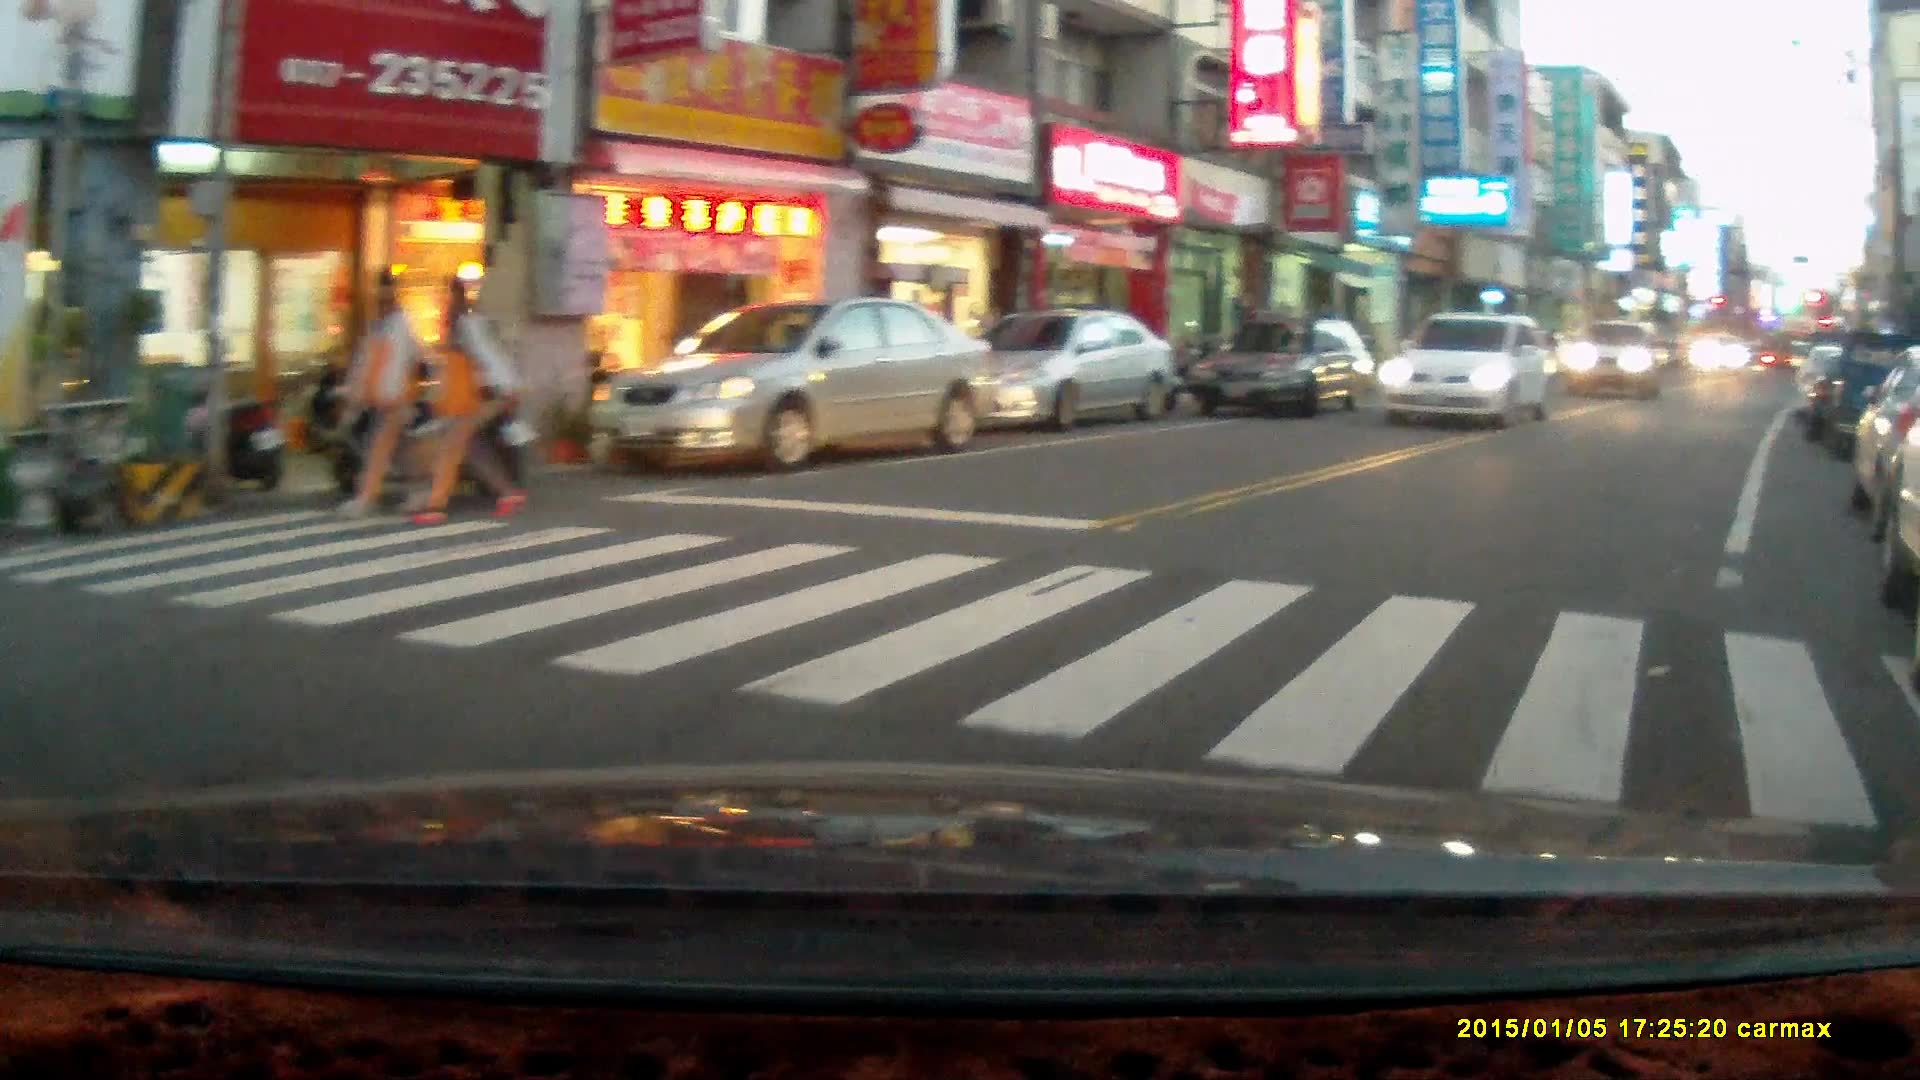pedestrian: (411, 274, 524, 526), (340, 263, 427, 519)
vehicle: (589, 298, 992, 470), (937, 309, 1176, 429), (1375, 311, 1554, 430), (1190, 322, 1379, 423), (1556, 316, 1674, 401), (1691, 333, 1753, 379)
